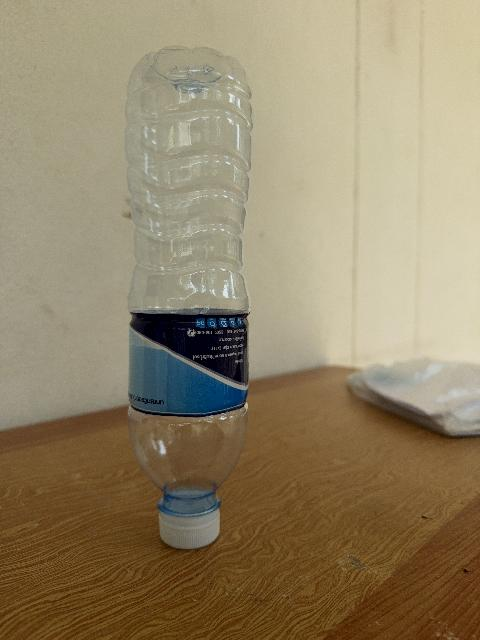bottle: (125, 47, 250, 548)
